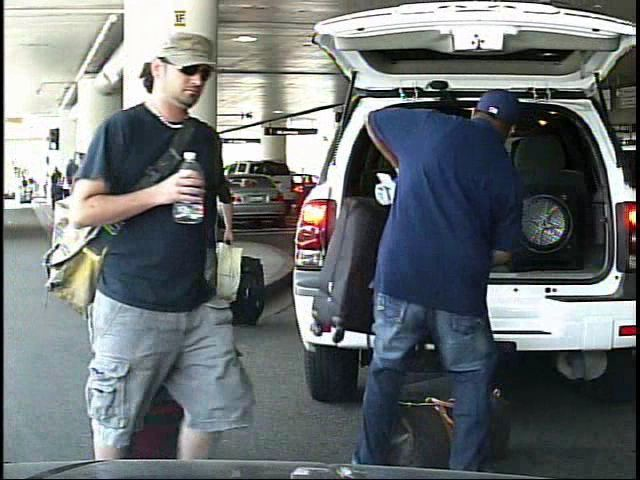person: (337, 74, 541, 472), (66, 39, 241, 470), (138, 123, 252, 344), (14, 174, 24, 205)
